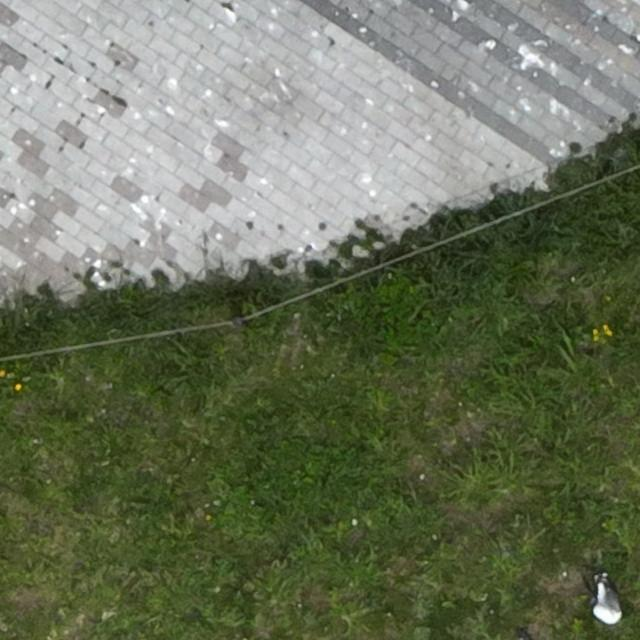umineko: (596, 586, 619, 624)
